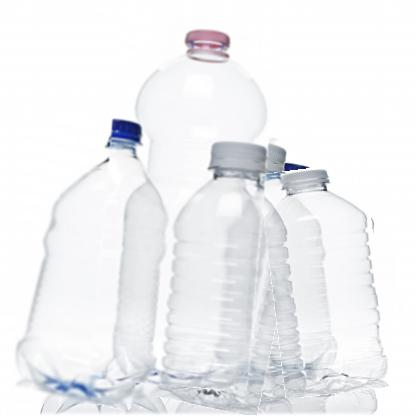plastic-bottles: (98, 22, 271, 389), (10, 119, 177, 406), (158, 128, 302, 414), (267, 166, 385, 398)
